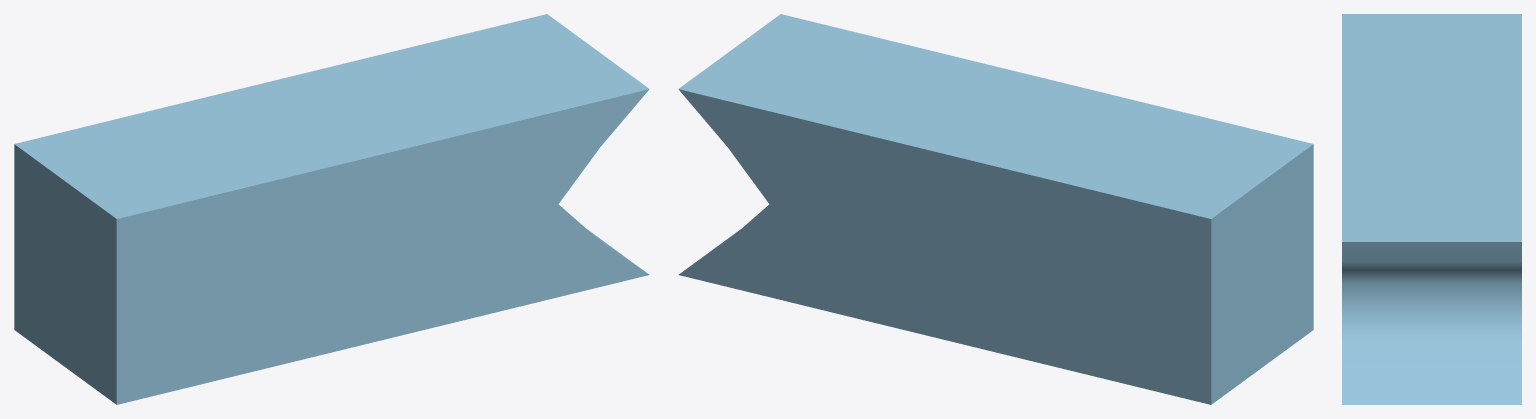
The picture shows the model from 3 angles, left to right: view 1: azimuth 30°, elevation 25°; view 2: azimuth 150°, elevation 25°; view 3: azimuth 270°, elevation 25°; orthographic projection. The views are drawn at different scales.
Visible parts, largest first — view 1: pCube1; view 2: pCube1; view 3: pCube1.
Part boxes in pixels (x1=…): pCube1: x1=14, y1=14, x2=649, y2=404; pCube1: x1=678, y1=14, x2=1313, y2=404; pCube1: x1=1342, y1=14, x2=1521, y2=404.
Size of the model in its own units: 3 by 1 by 1.
